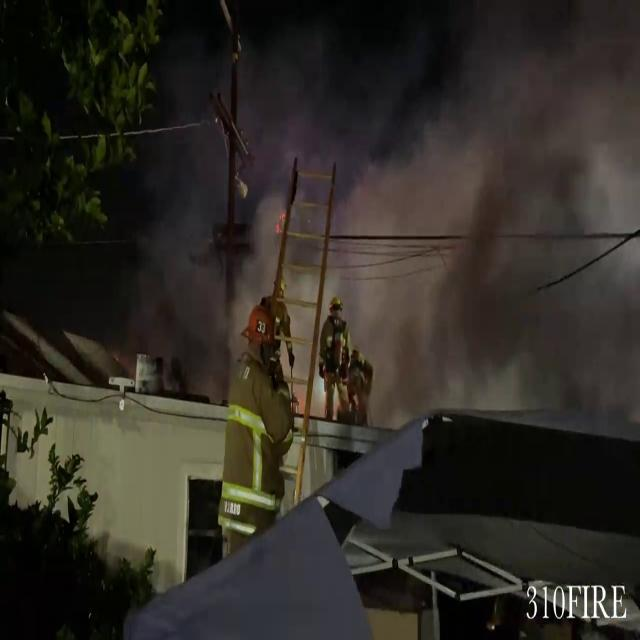Smoke: (120, 0, 640, 427)
